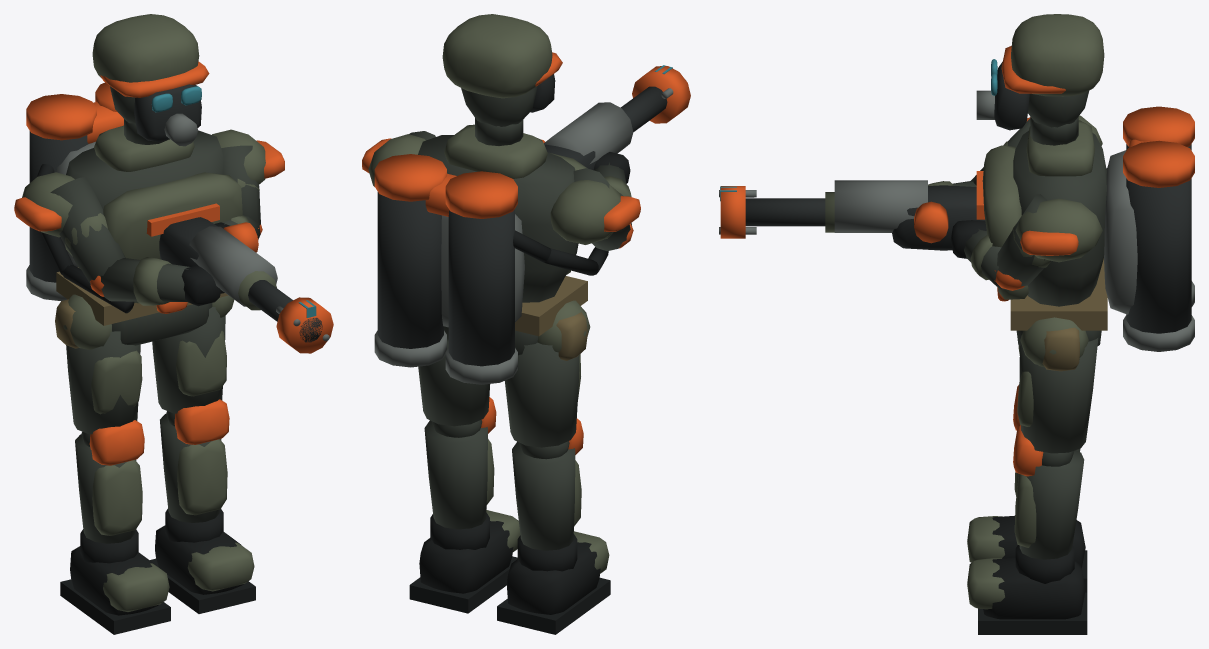
The model's file is Bastion_FlameTrooper_Static.obj.
3 renders of one model, left to right at view 1: azimuth 30°, elevation 25°; view 2: azimuth 150°, elevation 25°; view 3: azimuth 270°, elevation 25°, orthographic. The views are drawn at different scales.
Parts seen in each view (by area): view 1: Static_Thigh, Static_ShinGuard, Static_ChestArmor, Static_Helmet, Static_ThighPlate, Static_ToeCap, Static_Boot, Static_TorsoCore, Static_KneePad, Static_Shin, Static_Sole, Static_LeftUpperArm (+32 smaller); view 2: Static_FuelTank, Static_Shin, Static_Thigh, Static_Boot, Static_Helmet, Static_TorsoCore, Static_FuelTankTop, Static_Sole, Static_Collar, Static_LeftShoulder, Static_PressureBody, Static_FuelTankBottom (+22 smaller); view 3: Static_FuelTank, Static_TorsoCore, Static_Helmet, Static_Thigh, Static_Boot, Static_FuelTankTop, Static_Shin, Static_PressureBody, Static_TankFrame, Static_ChestArmor, Static_RightShoulder, Static_ToeCap (+22 smaller).
Part boxes in pixels (x1,y1,x2,y2): Static_Thigh: [66, 307, 225, 434]; Static_ShinGuard: [92, 439, 227, 535]; Static_ChestArmor: [103, 172, 242, 259]; Static_Helmet: [92, 14, 199, 82]; Static_ThighPlate: [91, 330, 226, 414]; Static_ToeCap: [103, 542, 254, 611]; Static_Boot: [70, 525, 243, 615]; Static_TorsoCore: [66, 130, 223, 269]; Static_KneePad: [89, 399, 229, 465]; Static_Shin: [75, 414, 221, 543]; Static_Sole: [60, 558, 255, 634]; Static_LeftUpperArm: [50, 177, 125, 284]; Static_FuelTank: [377, 192, 514, 366]; Static_Shin: [424, 420, 575, 550]; Static_Thigh: [418, 341, 579, 447]; Static_Boot: [419, 521, 600, 614]; Static_Helmet: [442, 14, 552, 98]; Static_TorsoCore: [418, 135, 578, 302]; Static_FuelTankTop: [374, 154, 517, 218]; Static_Sole: [409, 556, 610, 634]; Static_Collar: [444, 124, 547, 178]; Static_LeftShoulder: [550, 180, 620, 244]; Static_PressureBody: [544, 102, 633, 163]; Static_FuelTankBottom: [374, 330, 517, 384]; Static_FuelTank: [1126, 144, 1191, 333]; Static_TorsoCore: [1013, 130, 1106, 306]; Static_Helmet: [1011, 14, 1104, 96]; Static_Thigh: [1019, 335, 1098, 453]; Static_Boot: [983, 515, 1085, 619]; Static_FuelTankTop: [1123, 106, 1194, 187]; Static_Shin: [1019, 449, 1084, 559]; Static_PressureBody: [834, 180, 927, 232]; Static_TankFrame: [1104, 150, 1137, 314]; Static_ChestArmor: [982, 145, 1021, 247]; Static_RightShoulder: [1015, 198, 1102, 262]; Static_ToeCap: [967, 516, 1004, 609].
Bounding box in the file's own units: 0.9548 × 2.04 × 1.53.
Materials: 1 (1 with a texture image).
